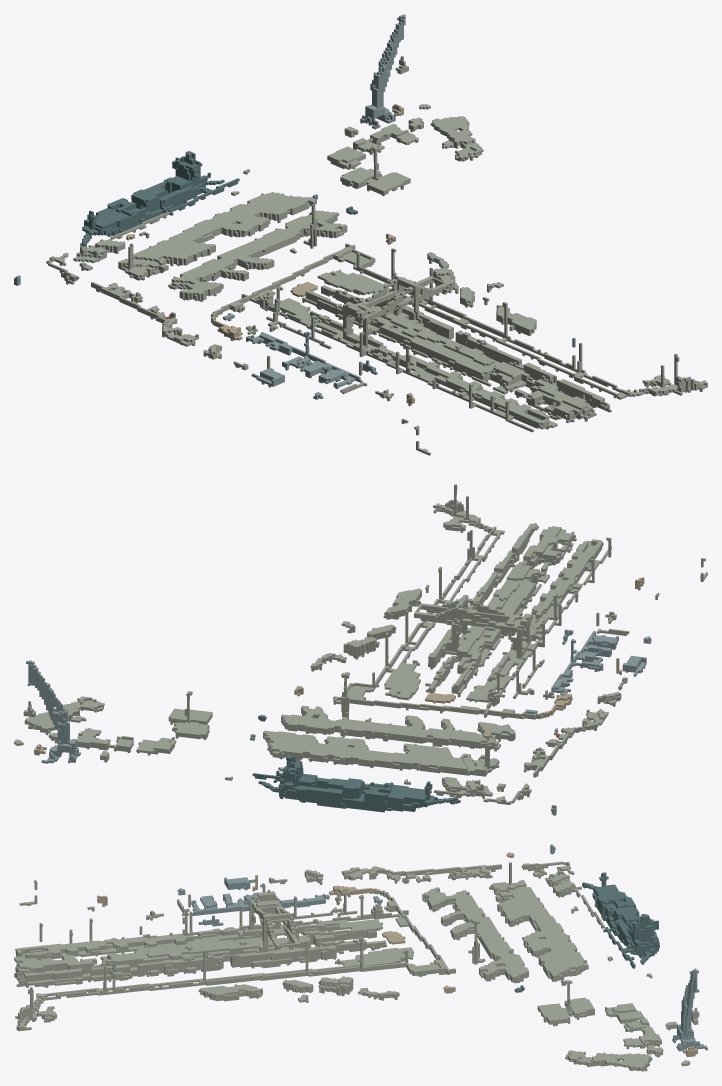
3 renders of one model, top to bottom at view 1: azimuth 30°, elevation 25°; view 2: azimuth 150°, elevation 25°; view 3: azimuth 270°, elevation 25°, orthographic. The views are drawn at different scales.
Parts seen in each view (by area): view 1: measured-industrial; view 2: measured-industrial; view 3: measured-industrial.
Part boxes in pixels (box(x1,y1,x2,y2)): measured-industrial: box(14, 14, 707, 455); measured-industrial: box(14, 484, 707, 815); measured-industrial: box(14, 844, 707, 1071).
Bounding box in the file's own units: 363 × 69.98 × 469.
